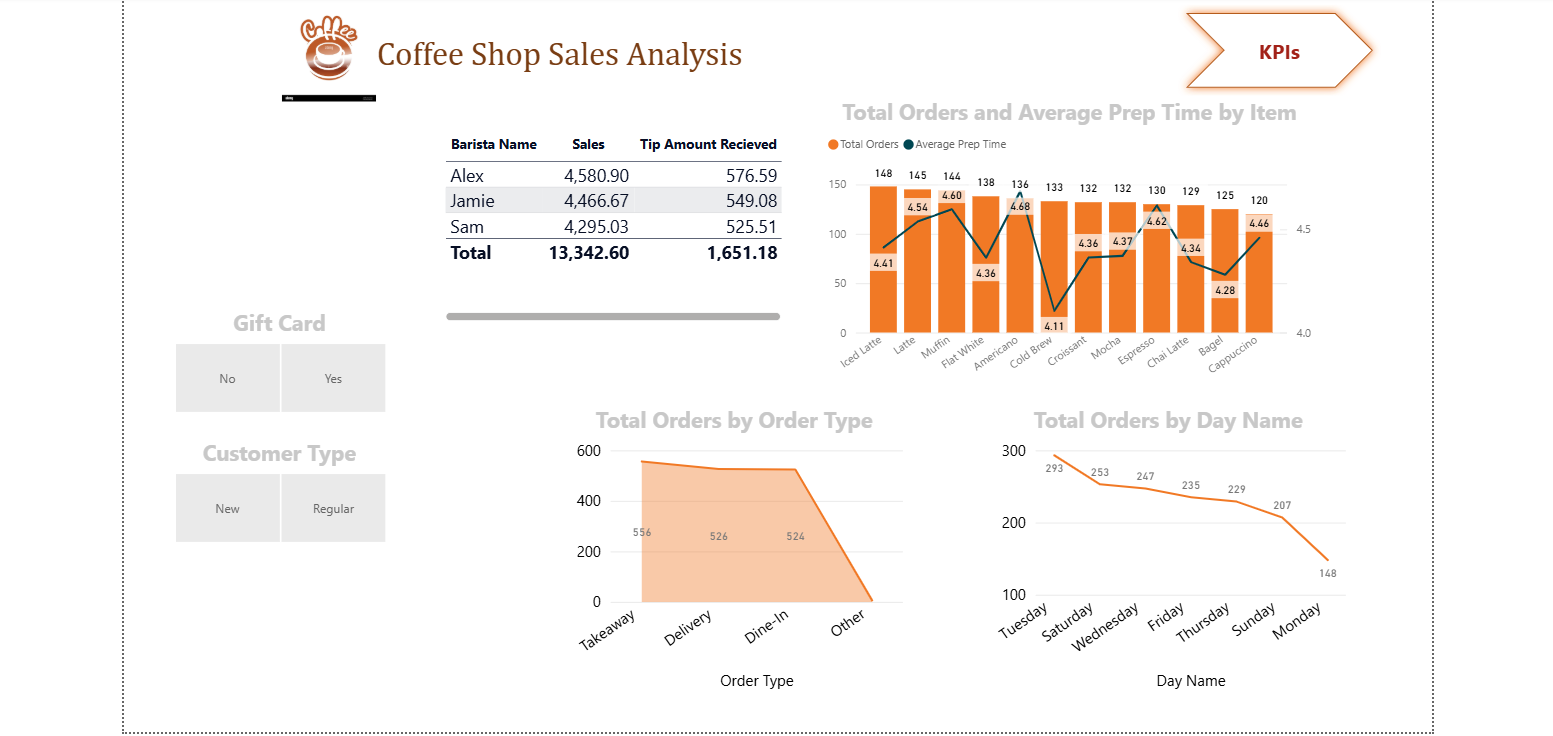

The dashboard page shown, as its layout file describes it:
{"tool":"powerbi","page":{"name":"Order Analysis","canvas":[1280,720],"ordinal":4},"visuals":[{"type":"tableEx","fields":{"Values":["coffeeshop_transactions.Barista Name","coffeeshop_transactions.Sales","coffeeshop_transactions.Tip Amount Recieved"]},"box":[308.7,129,340.3,194.9],"z":0},{"type":"lineClusteredColumnComboChart","fields":{"Category":["coffeeshop_transactions.Item"],"Y":["coffeeshop_transactions.Total Orders"],"Y2":["coffeeshop_transactions.Average Prep Time"]},"box":[683.4,97.4,483,284],"z":1000},{"type":"lineChart","fields":{"Category":["coffeeshop_transactions.Day Name"],"Y":["coffeeshop_transactions.Total Orders"]},"box":[842.5,399.3,358.1,284],"z":2000},{"type":"stackedAreaChart","fields":{"Y":["coffeeshop_transactions.Total Orders"],"Category":["coffeeshop_transactions.Order Type"]},"box":[426.8,399.3,340.3,284],"z":3000},{"type":"slicer","title":"Gift  Card","fields":{"Values":["coffeeshop_transactions.Gift Card Used"]},"box":[24.7,304.6,255.2,109.8],"z":4000},{"type":"slicer","title":"Customer Type","fields":{"Values":["coffeeshop_transactions.Customer Type"]},"box":[24.7,432.2,255.2,109.8],"z":5000},{"type":"shape","box":[1030.5,8.2,199,89.2],"z":6000},{"type":"image","box":[93.3,0,215.4,108.4],"z":7000},{"type":"textbox","box":[212.7,35.7,426.8,72.7],"z":8000}]}

Visuals, with their boxes on the page's 1280x720 design canvas (x1, y1, x2, y2). These are canvas units, not pixel positions in the 1553x736 screenshot, which may show the page scaled, cropped or inside an application window:
tableEx - coffeeshop_transactions.Barista Name x coffeeshop_transactions.Sales: l=309, t=129, r=649, b=324
lineClusteredColumnComboChart - coffeeshop_transactions.Item x coffeeshop_transactions.Total Orders: l=683, t=97, r=1166, b=381
lineChart - coffeeshop_transactions.Day Name x coffeeshop_transactions.Total Orders: l=842, t=399, r=1201, b=683
stackedAreaChart - coffeeshop_transactions.Total Orders x coffeeshop_transactions.Order Type: l=427, t=399, r=767, b=683
"Gift  Card" slicer: l=25, t=305, r=280, b=414
"Customer Type" slicer: l=25, t=432, r=280, b=542
shape: l=1030, t=8, r=1230, b=97
image: l=93, t=0, r=309, b=108
textbox: l=213, t=36, r=640, b=108
